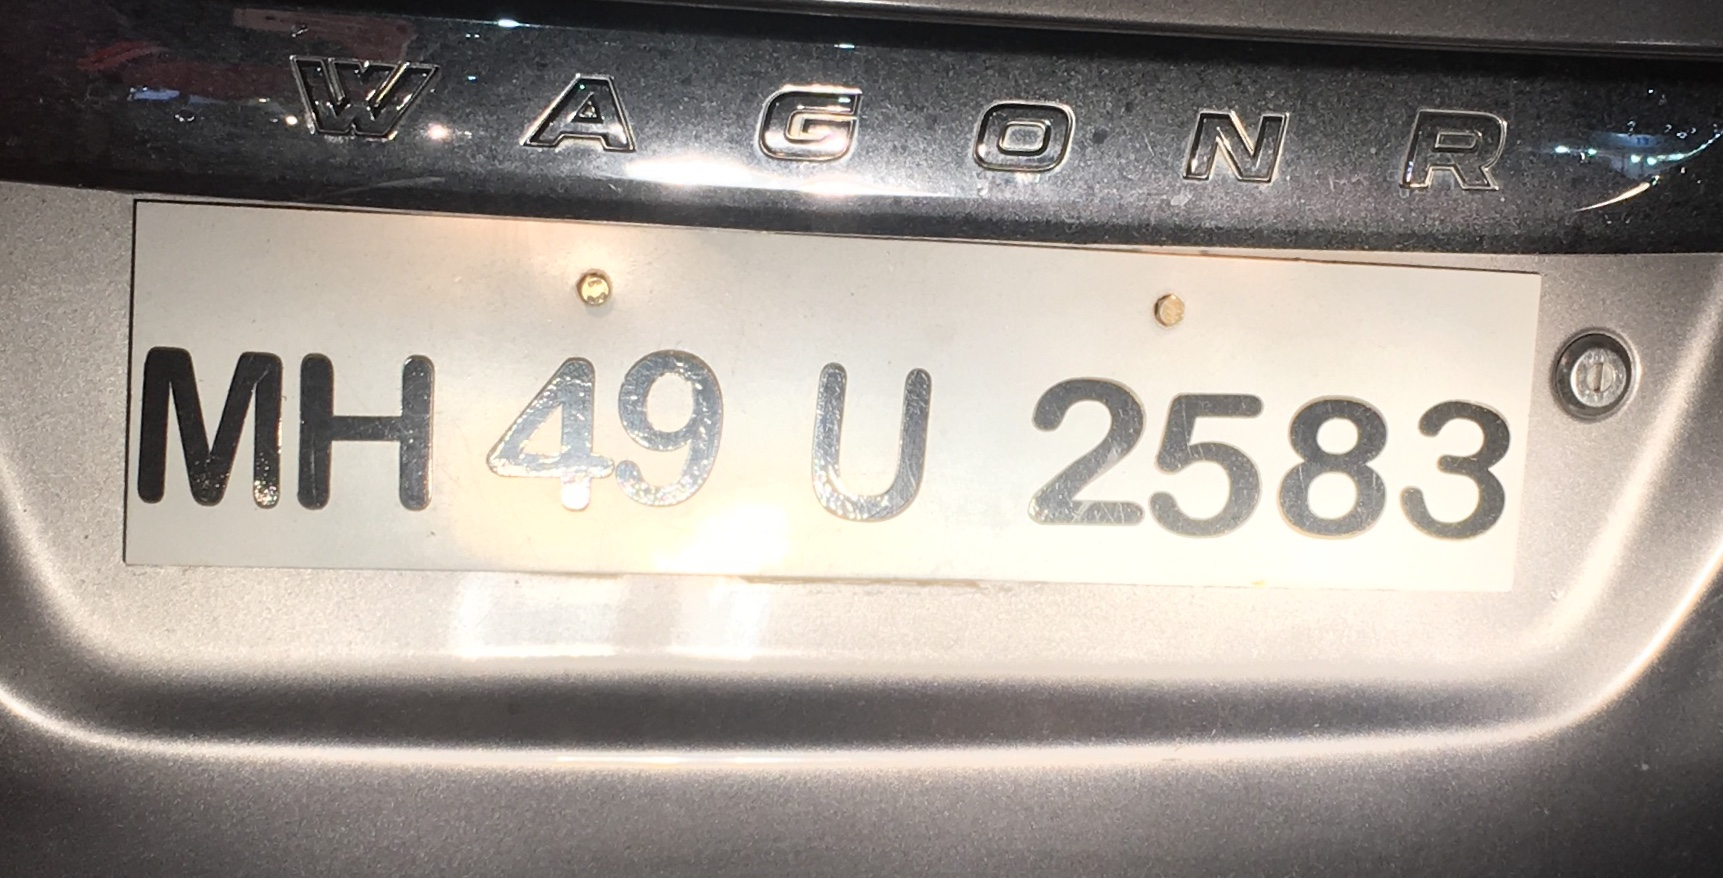numberplate: (117, 192, 1537, 599)
